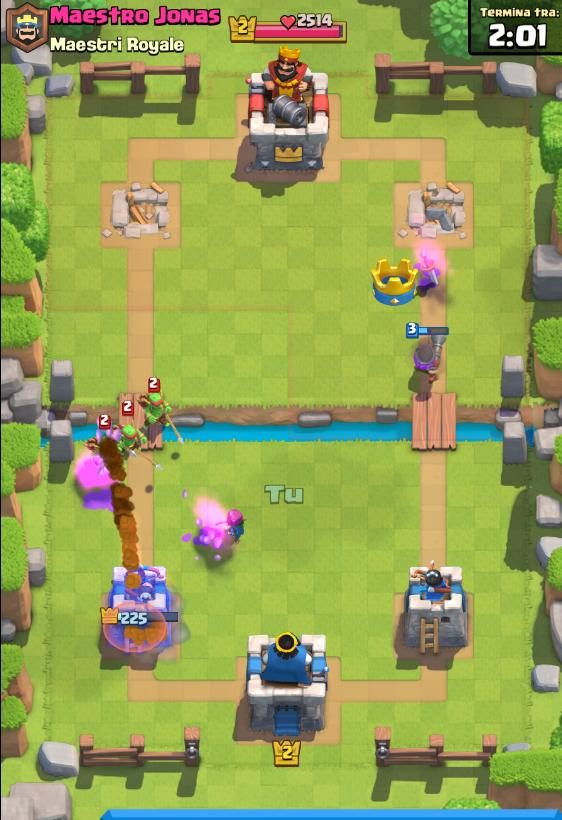ally_archer: (224, 508, 253, 544)
ally_musketeer: (407, 324, 454, 385)
enemy_spear_goblin: (113, 398, 146, 455), (137, 377, 166, 426)
